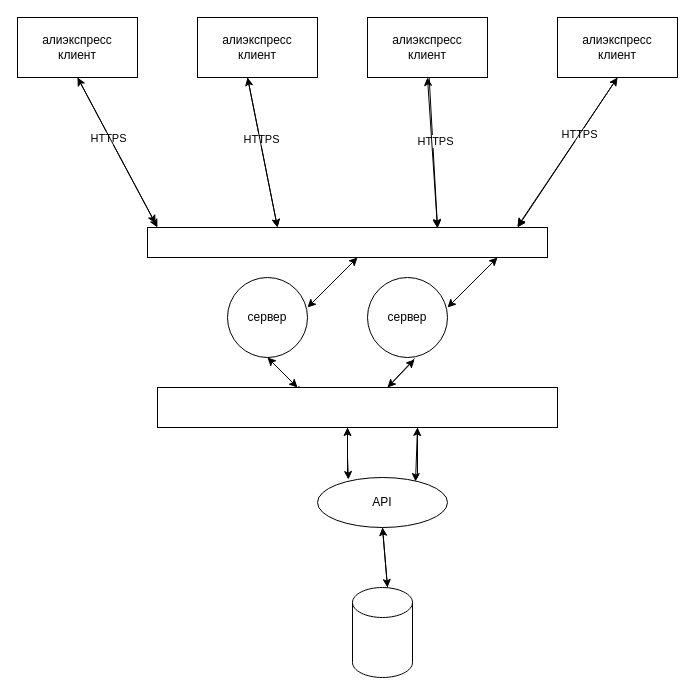
Some shapes in this 695 by 695 pixel diagram are drawn without their labels. Here are the shapes that lost their labels. From the top down, the centre of each, then its label:
the point at 347,242: балансировщик
the point at 357,407: блансировщик
the point at 382,632: БД
